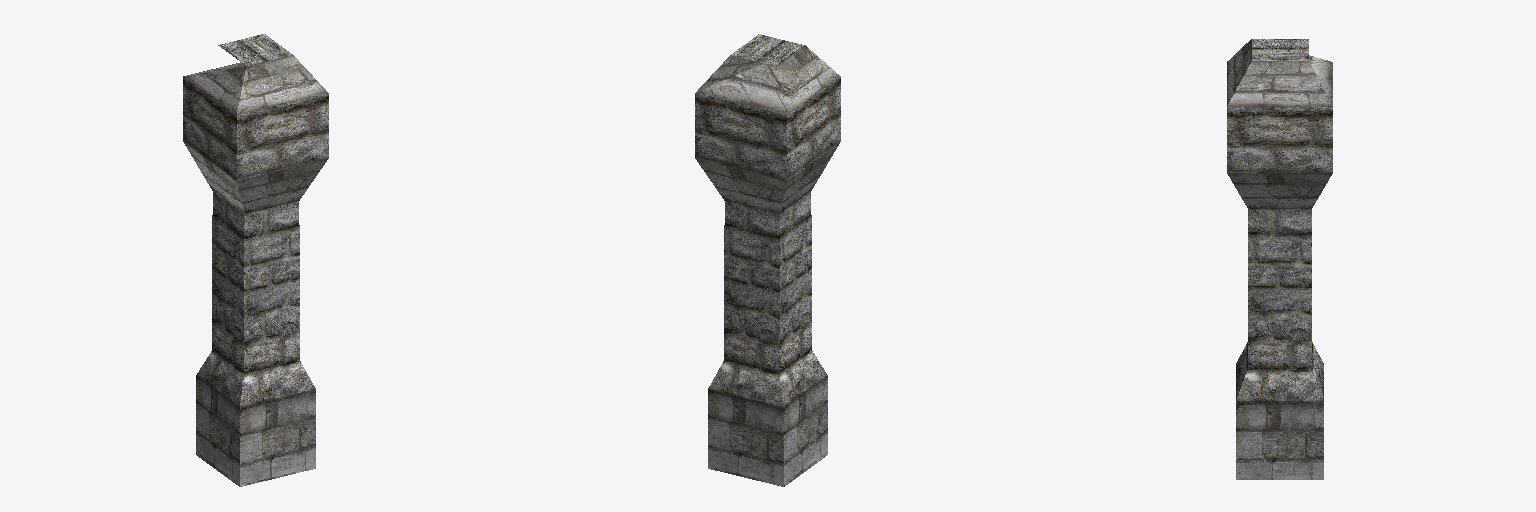
3 views of the same model, side by side, from view 1: azimuth 30°, elevation 25°; view 2: azimuth 150°, elevation 25°; view 3: azimuth 270°, elevation 25° (orthographic).
Visible parts, largest first — view 1: Cube_Cube.002; view 2: Cube_Cube.002; view 3: Cube_Cube.002.
Part boxes in pixels (x1,y1,x2,y2): Cube_Cube.002: (183, 34, 328, 486); Cube_Cube.002: (695, 34, 840, 486); Cube_Cube.002: (1227, 39, 1332, 479).
Bounding box in the file's own units: 0.4122 × 1.76 × 0.4122.
Materials: 1 (1 with a texture image).